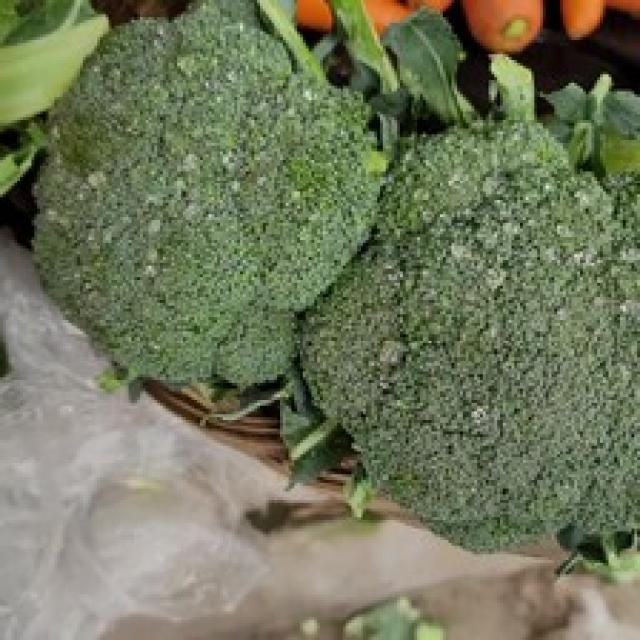Broccoli: (302, 121, 640, 548), (35, 0, 380, 386), (35, 0, 380, 384)
